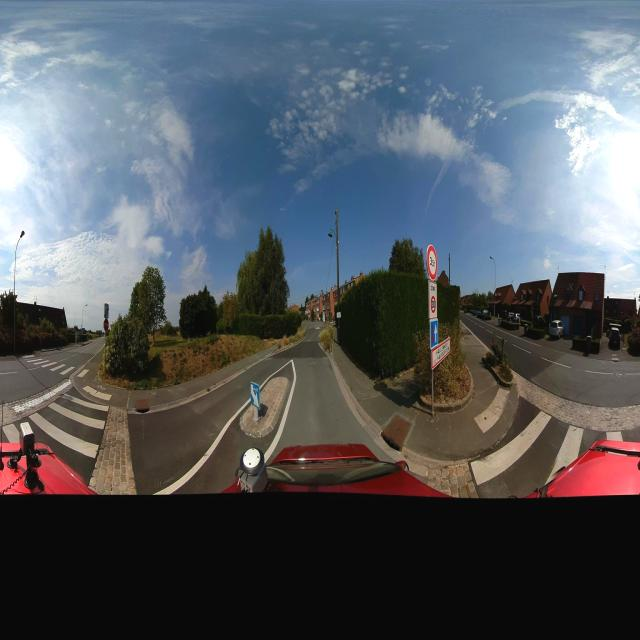car: (499, 310, 521, 328), (607, 326, 621, 350), (548, 320, 564, 339)
